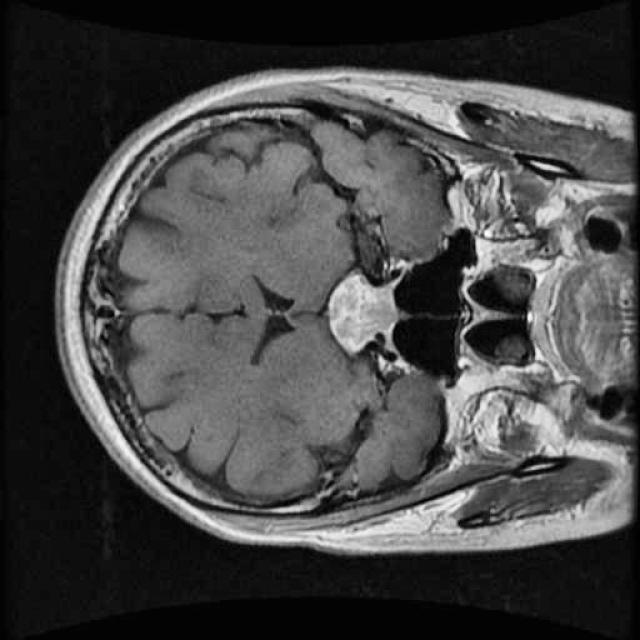Tumor: (322, 258, 415, 364)
